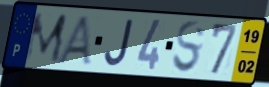4: (135, 17, 162, 73)
7: (209, 22, 240, 76)
A: (55, 14, 93, 68)
J: (103, 17, 136, 68)
M: (22, 12, 69, 64)
S: (170, 19, 207, 76)
